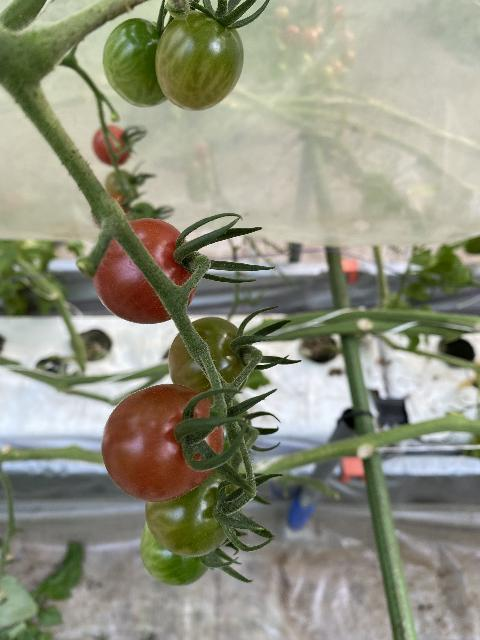l_fully_ripened: (101, 385, 224, 503), (93, 217, 199, 324)
l_green: (146, 469, 242, 558), (102, 17, 167, 108), (140, 518, 212, 587)
l_half_ripened: (154, 10, 244, 111), (168, 316, 249, 403)
